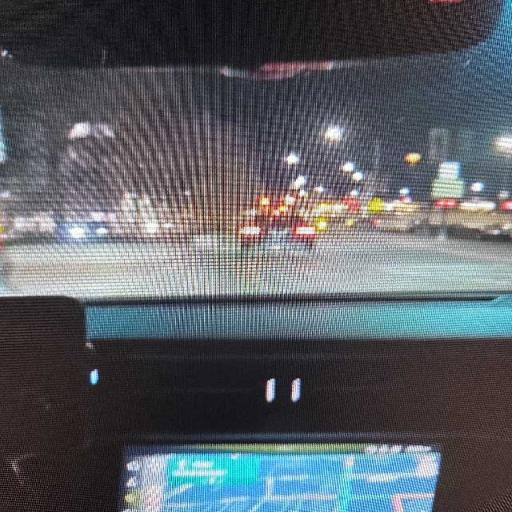car: (238, 215, 317, 249), (56, 221, 110, 243), (481, 224, 511, 242)
lane: (3, 234, 511, 298)
